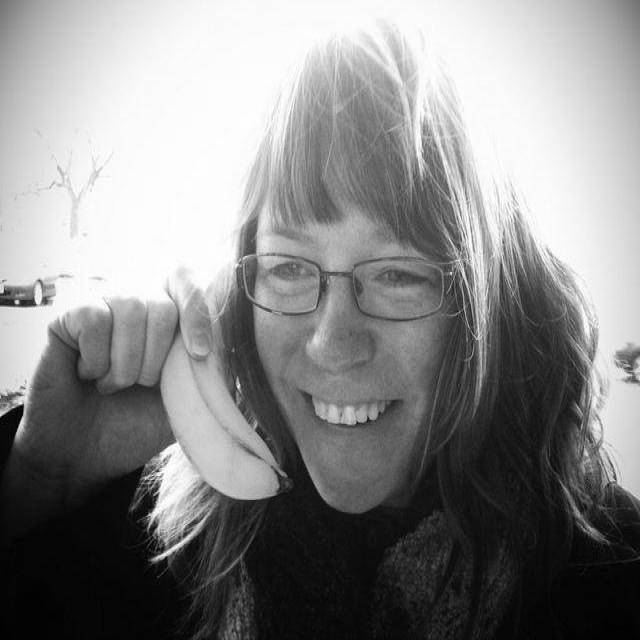vehicle: (0, 272, 89, 304), (610, 338, 640, 390)
